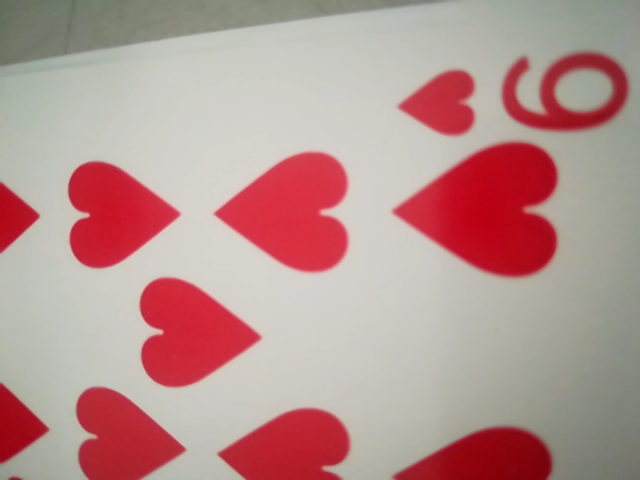hx 9: (392, 46, 640, 146)
